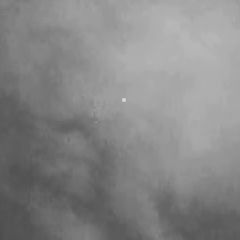Target: (120, 96, 126, 103)
